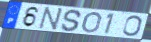1: (104, 13, 115, 36)
6: (21, 6, 40, 29)
N: (37, 6, 65, 32)
O: (81, 11, 104, 34), (121, 14, 143, 37)
S: (60, 9, 84, 33)
